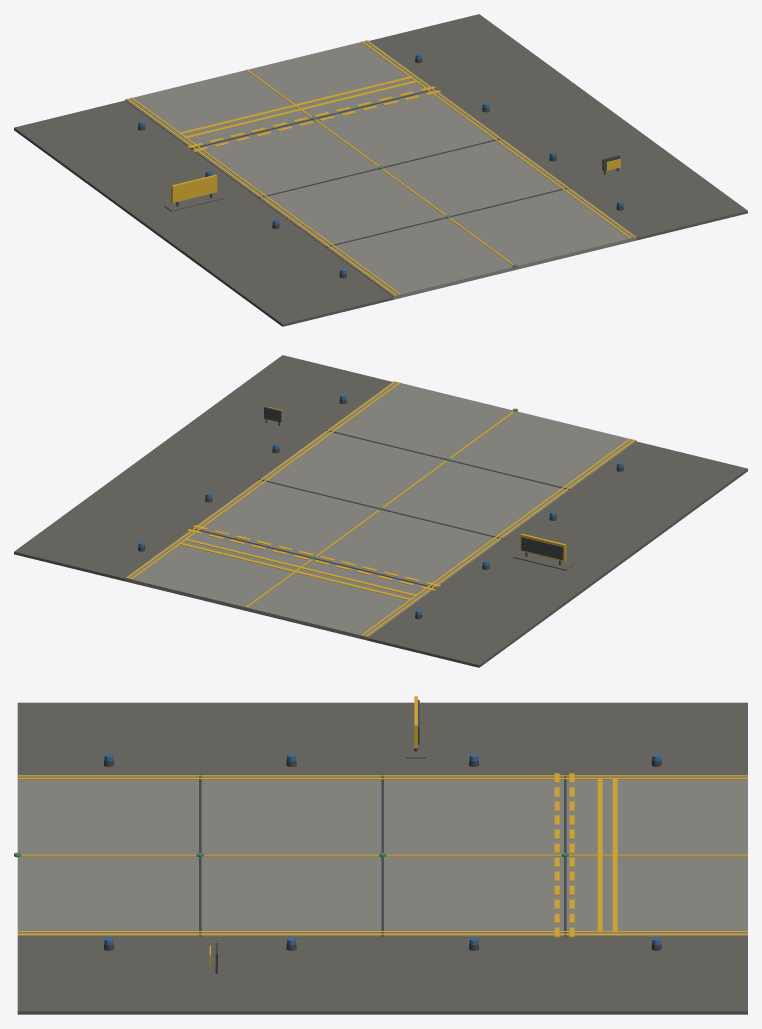
The model's file is end.glb.
The picture shows the model from 3 angles, top to bottom: view 1: azimuth 30°, elevation 25°; view 2: azimuth 150°, elevation 25°; view 3: azimuth 270°, elevation 25°; orthographic projection. The views are drawn at different scales.
Visible parts, largest first — view 1: taxiway_pavement, shoulder_w, shoulder_e, sign_panel, edge_stripe_outer_e, edge_stripe_outer_w, edge_stripe_inner_e, edge_stripe_inner_w, centreline, hold_bar_solid_0, hold_bar_solid_1; view 2: taxiway_pavement, shoulder_e, shoulder_w, edge_stripe_outer_e, edge_stripe_outer_w, edge_stripe_inner_w, edge_stripe_inner_e, centreline, hold_bar_solid_1, hold_bar_solid_0, sign_face; view 3: taxiway_pavement, shoulder_e, shoulder_w, edge_stripe_outer_e, centreline, edge_stripe_outer_w, edge_stripe_inner_w, edge_stripe_inner_e, hold_bar_solid_0, hold_bar_solid_1, sign_base.
Part boxes in pixels (<box>): taxiway_pavement: <box>125,40,636,299</box>; shoulder_w: <box>14,100,393,326</box>; shoulder_e: <box>370,14,747,240</box>; sign_panel: <box>171,174,217,202</box>; edge_stripe_outer_e: <box>365,40,635,237</box>; edge_stripe_outer_w: <box>126,98,396,295</box>; edge_stripe_inner_e: <box>361,41,630,238</box>; edge_stripe_inner_w: <box>131,97,400,294</box>; centreline: <box>246,69,513,264</box>; hold_bar_solid_0: <box>178,76,412,134</box>; hold_bar_solid_1: <box>183,80,417,138</box>; taxiway_pavement: <box>125,381,636,640</box>; shoulder_e: <box>14,355,391,581</box>; shoulder_w: <box>368,441,747,667</box>; edge_stripe_outer_e: <box>126,381,396,578</box>; edge_stripe_outer_w: <box>365,439,635,636</box>; edge_stripe_inner_w: <box>361,438,630,635</box>; edge_stripe_inner_e: <box>131,382,400,579</box>; centreline: <box>246,411,514,607</box>; hold_bar_solid_1: <box>184,538,418,596</box>; hold_bar_solid_0: <box>180,543,412,600</box>; sign_face: <box>521,537,563,559</box>; taxiway_pavement: <box>17,775,747,937</box>; shoulder_e: <box>17,937,747,1014</box>; shoulder_w: <box>17,702,747,774</box>; edge_stripe_outer_e: <box>17,933,747,935</box>; centreline: <box>21,854,747,856</box>; edge_stripe_outer_w: <box>17,775,747,776</box>; edge_stripe_inner_w: <box>17,778,747,779</box>; edge_stripe_inner_e: <box>17,931,747,932</box>; hold_bar_solid_0: <box>612,779,617,932</box>; hold_bar_solid_1: <box>597,778,602,932</box>; sign_base: <box>406,722,425,758</box>.
Bounding box in the file's own units: 44 × 2.25 × 44.22.
